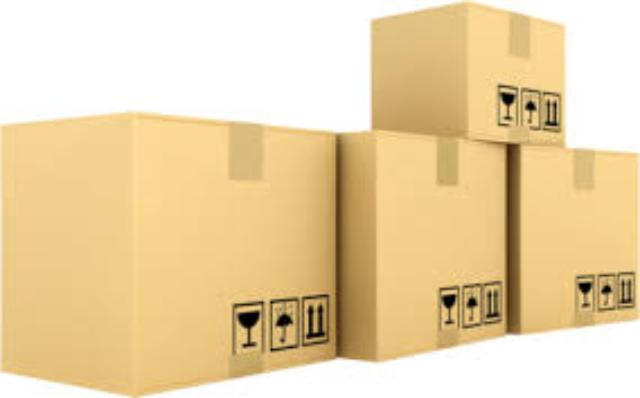cardboard paper: (0, 113, 331, 392), (340, 133, 505, 358), (372, 5, 563, 142), (509, 144, 635, 331)
